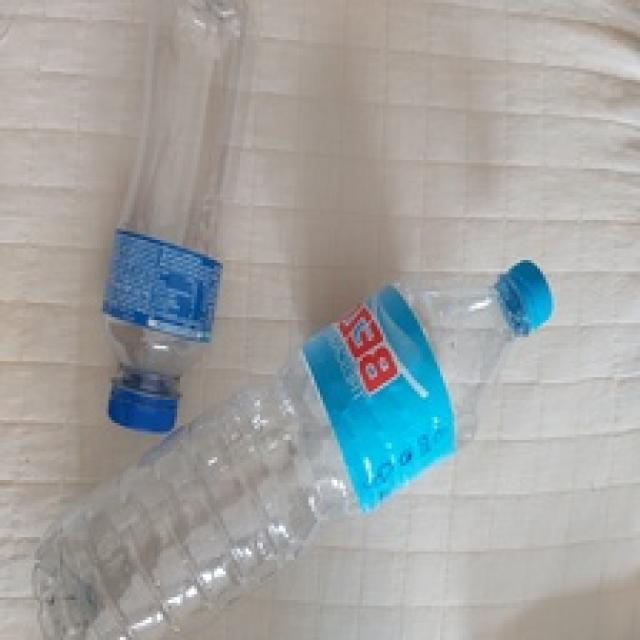good: (25, 259, 559, 640), (94, 0, 260, 444)
